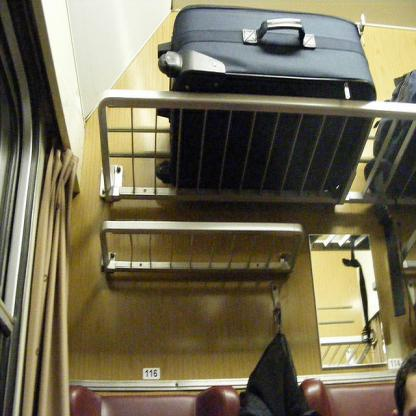backpack: (369, 68, 416, 197), (239, 331, 306, 410)
suitcase: (156, 11, 377, 200)
